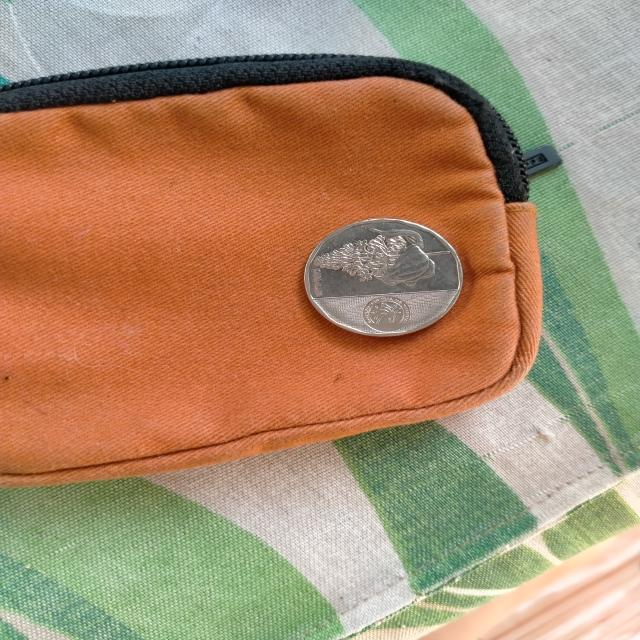10_New_Back: (312, 225, 446, 288)
